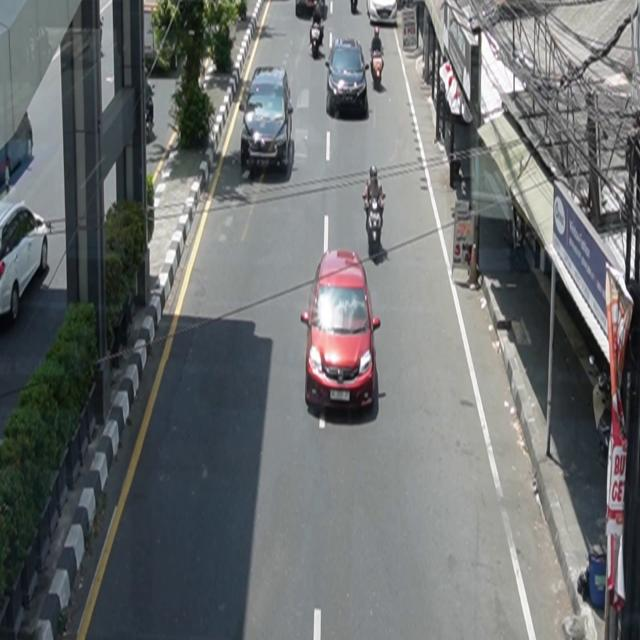car: (301, 250, 382, 416), (1, 201, 52, 326), (241, 66, 294, 174), (326, 37, 370, 118), (367, 1, 398, 26)
